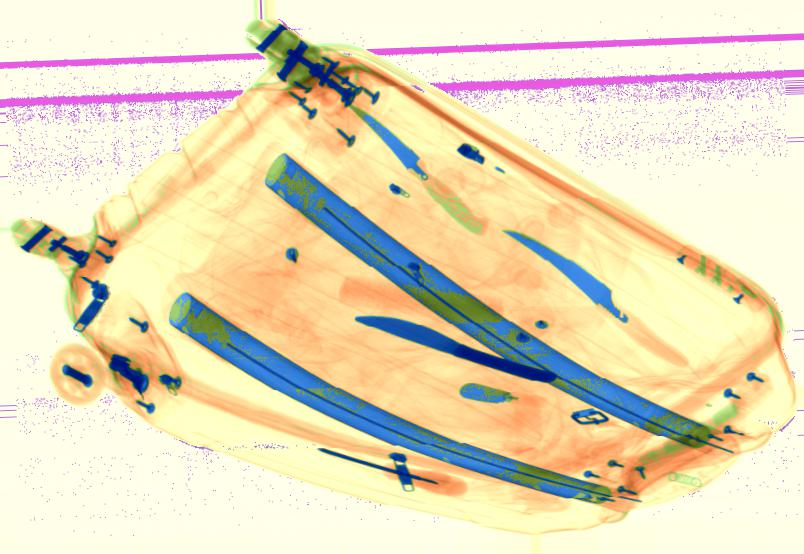Knife: (504, 228, 645, 331), (348, 316, 558, 382), (349, 104, 489, 190)
